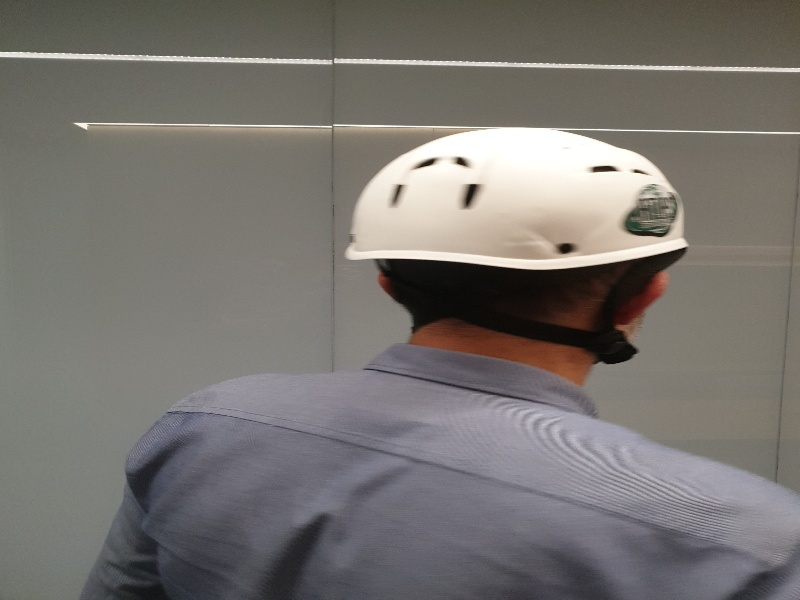Baret: (346, 124, 690, 277)
